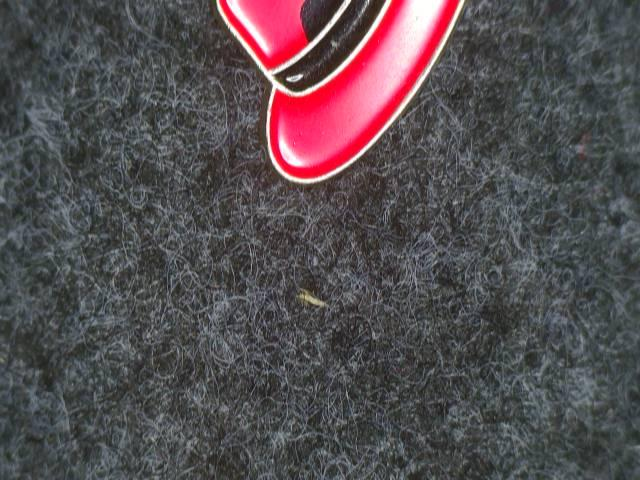Red-Hat: (203, 0, 474, 234)
Scratch: (297, 0, 360, 53)
